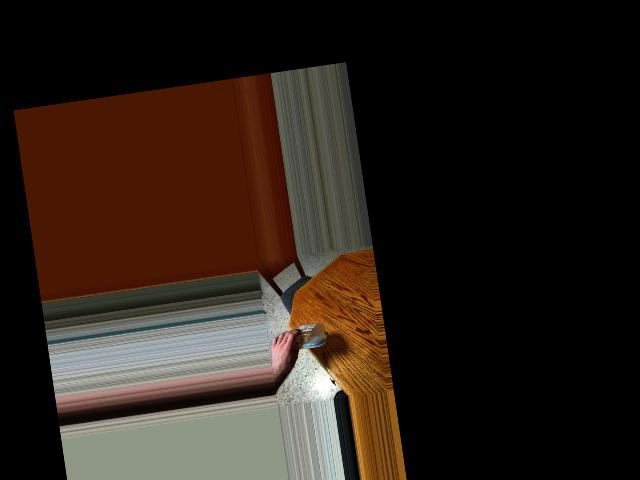cheese: (276, 315, 326, 360)
